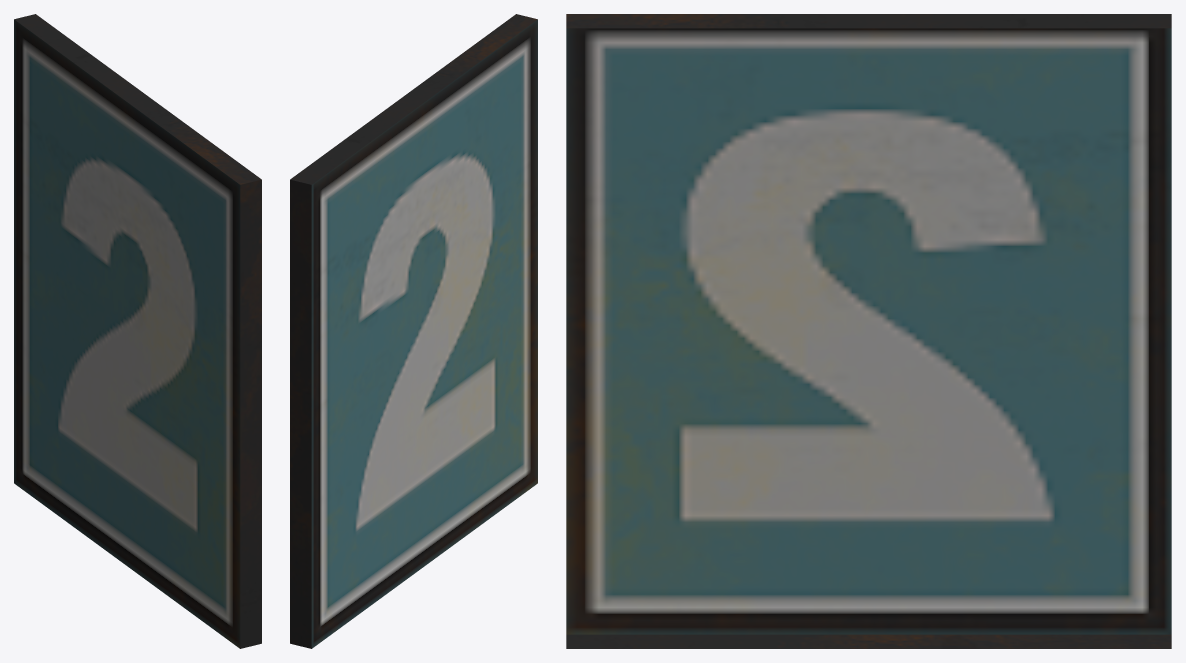
File: HH_Navigation_Sign_N02.fbx
The picture shows the model from 3 angles, left to right: view 1: azimuth 30°, elevation 25°; view 2: azimuth 150°, elevation 25°; view 3: azimuth 270°, elevation 25°; orthographic projection. The views are drawn at different scales.
Parts seen in each view (by area): view 1: HH_Navigation_Sign_N02; view 2: HH_Navigation_Sign_N02; view 3: HH_Navigation_Sign_N02.
Boxes of the visible parts, x1=… form: HH_Navigation_Sign_N02: x1=14, y1=14, x2=261, y2=648; HH_Navigation_Sign_N02: x1=290, y1=14, x2=537, y2=648; HH_Navigation_Sign_N02: x1=566, y1=14, x2=1171, y2=648.
Bounding box in the file's own units: 1.93 × 39.48 × 34.89.
